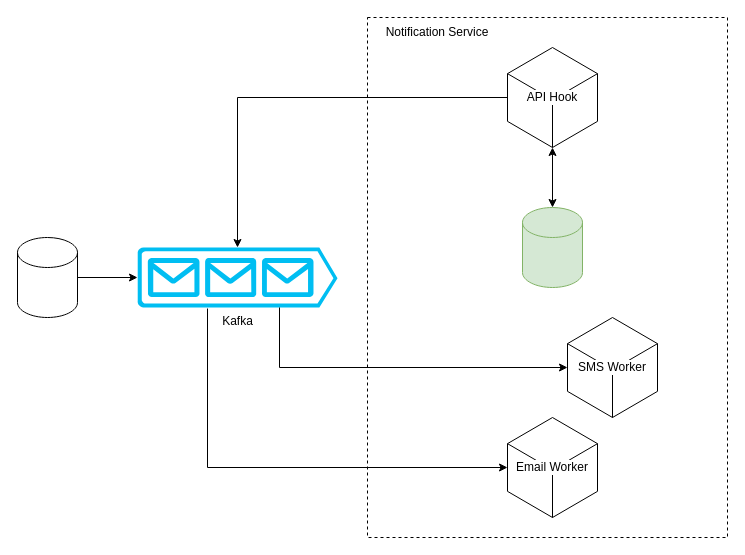
The diagram is 745 pixels wide and 555 high, and some of its shapes have lost their labels. The centre of each missing label's shape, as x and y in pixels:
"Event Source" goes at [47,277].
"MongoDB" goes at [552,247].
